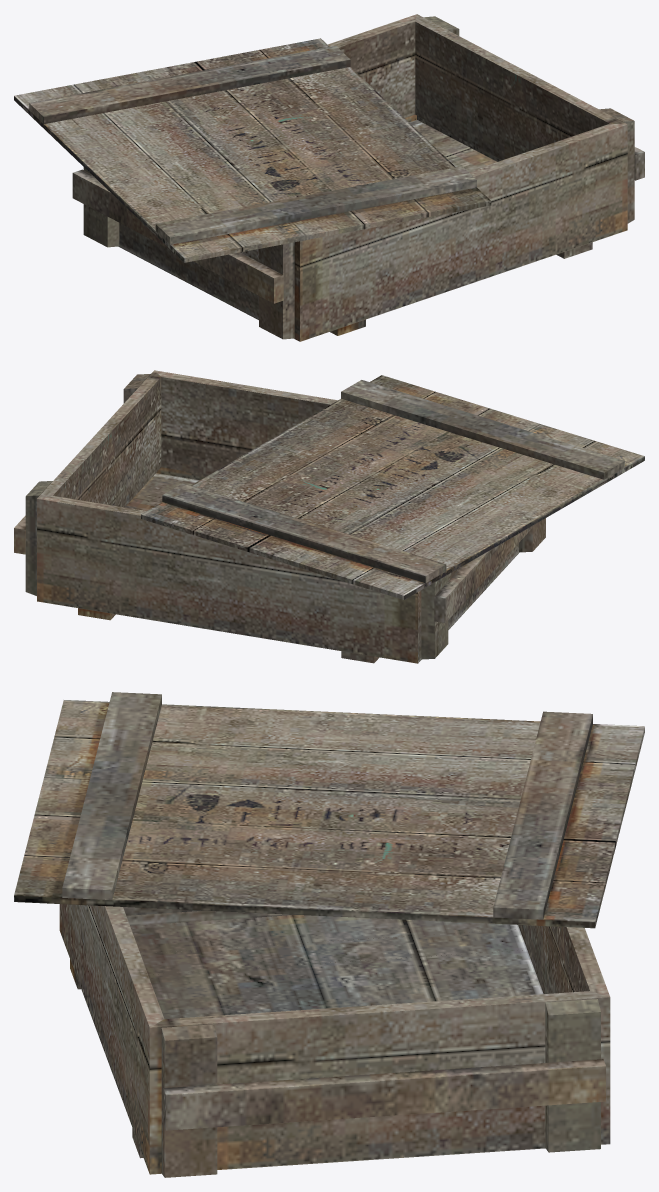
File: grenadebox.fbx
The picture shows the model from 3 angles, top to bottom: view 1: azimuth 30°, elevation 25°; view 2: azimuth 150°, elevation 25°; view 3: azimuth 270°, elevation 25°; orthographic projection. The views are drawn at different scales.
Parts seen in each view (by area): view 1: mesh_2.288; view 2: mesh_2.288; view 3: mesh_2.288.
Part boxes in pixels (x1=…): mesh_2.288: x1=14, y1=14, x2=644, y2=341; mesh_2.288: x1=14, y1=370, x2=644, y2=663; mesh_2.288: x1=14, y1=692, x2=644, y2=1177.
Size of the model in its own units: 0.7242 by 0.1733 by 0.5728.
